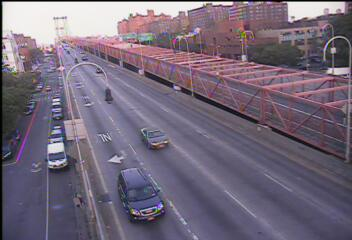neg: (231, 27, 258, 63), (95, 78, 117, 107), (206, 36, 223, 58), (168, 35, 180, 51)
